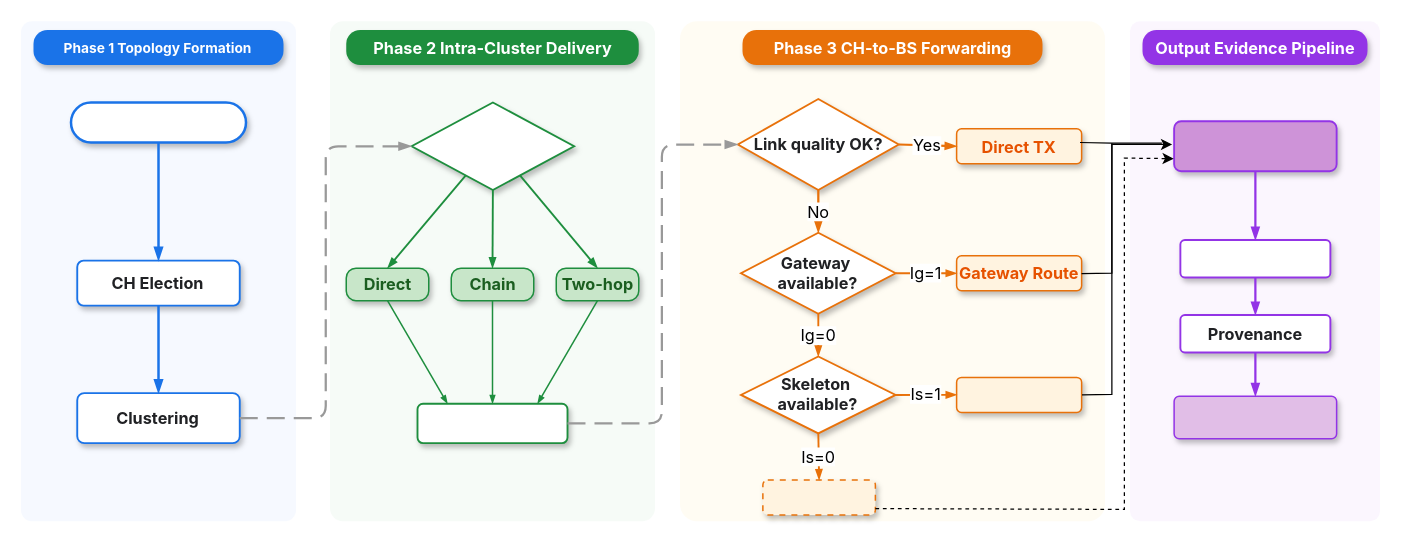
The diagram is 1403 pixels wide and 546 high, and some of its shapes have lost their labels. The shapes that lost their labels are listed below. From the top down, each one's centre as x and y in pixels, then its label:
point (159, 124): Round r begins
point (493, 147): CAS Engine
point (1256, 147): Base Station
point (1256, 260): Metric Logging
point (1019, 396): Skeleton Route
point (493, 424): Aggregate at CH
point (1256, 419): Structured Results
point (819, 499): Fallback
